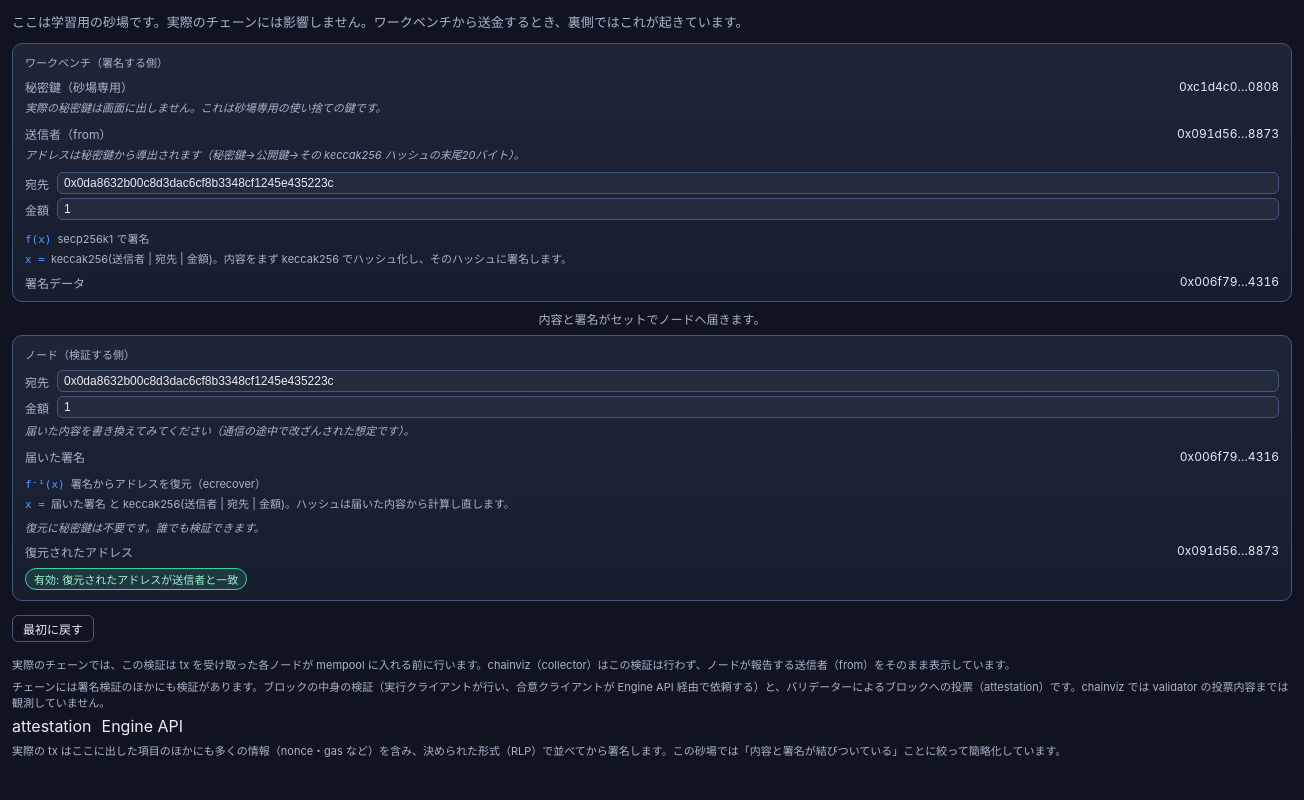
SignatureDemoView: only Alice can re-sign valid content › returns to the valid badge and shows the alice-specific result message
The width and height of the screenshot is (1304, 800).
Replace the text in the field with test id "signature-demo-received-amount" with "999" at (668,407), box [57,396,1279,418]
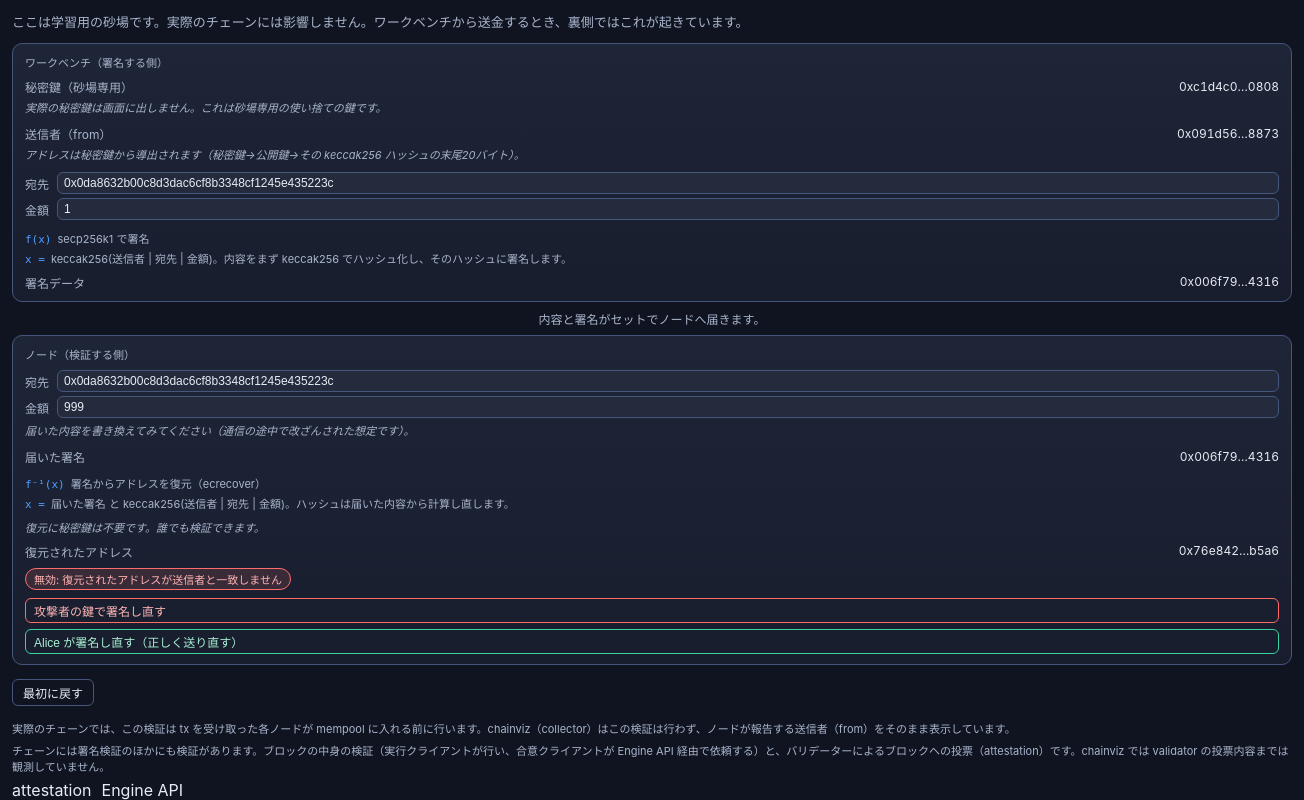
Click the button with test id "signature-demo-resign-alice" at (139,643), box [25,629,1279,654]
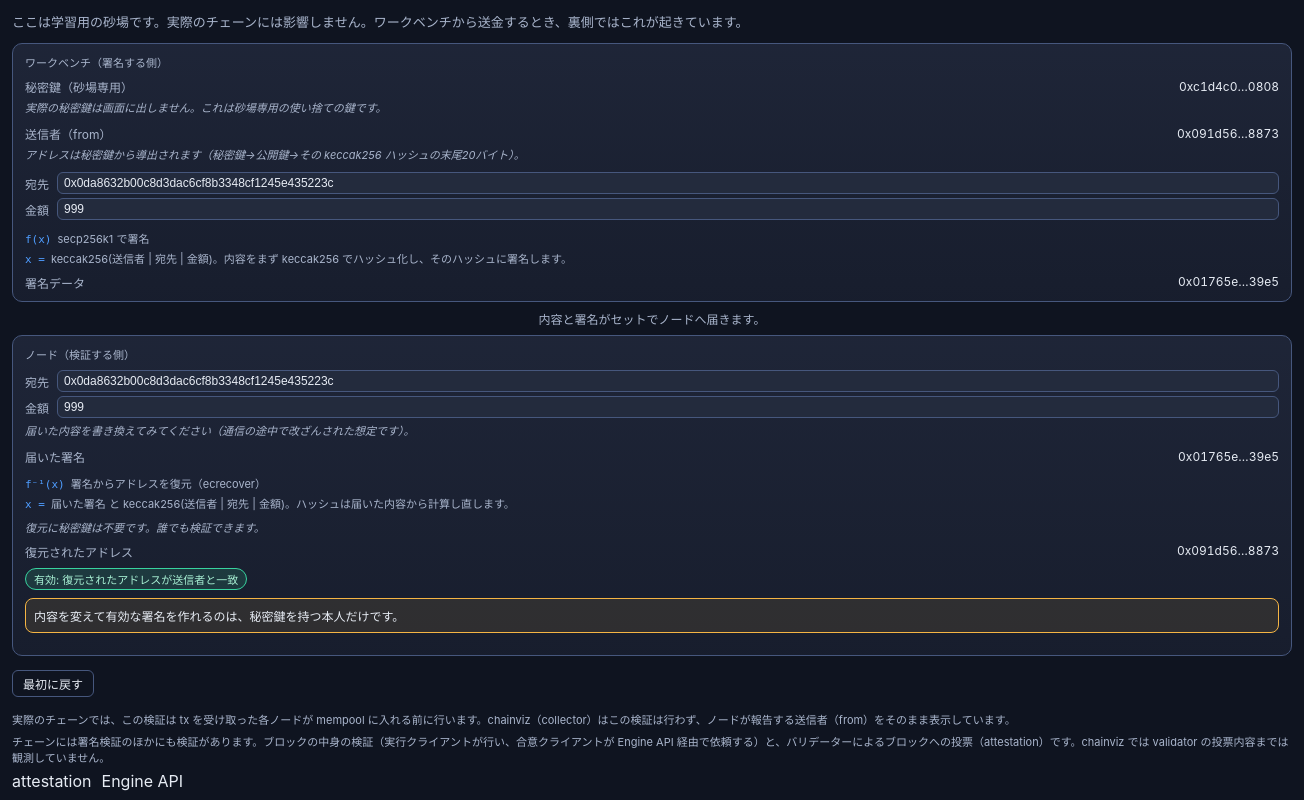
expect the text with test id "signature-demo-badge" reads "有効: 復元されたアドレスが送信者と一致": met, box [34,573,238,587]
expect the text "内容を変えて有効な署名を作れるのは、秘密鍵を持つ本人だけです。" is shown: met, box [25,598,1279,633]
expect the button with test id "signature-demo-resign-attacker" is gone: met
